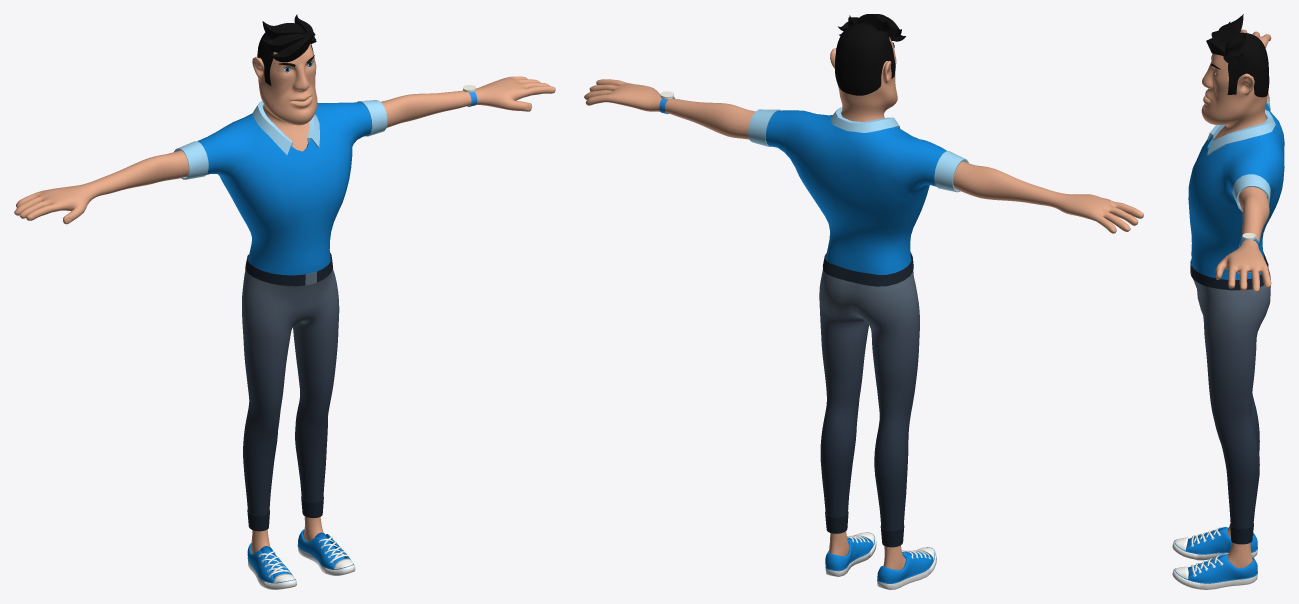
File: TERRYFBX.fbx
3 renders of one model, left to right at view 1: azimuth 30°, elevation 25°; view 2: azimuth 150°, elevation 25°; view 3: azimuth 270°, elevation 25°, orthographic. The views are drawn at different scales.
Visible parts, largest first — view 1: D_1, D_2, Body, Shoes, Hair; view 2: D_2, D_1, Body, Hair, Shoes; view 3: D_2, D_1, Body, Shoes, Hair.
Part boxes in pixels (x1,y1,x2,y2): D_1: (174,100,387,275); D_2: (242,252,339,531); Body: (14,43,555,553); Shoes: (247,529,355,589); Hair: (257,14,316,85); D_2: (819,252,919,547); D_1: (748,107,968,274); Body: (584,37,1143,570); Hair: (835,14,905,95); Shoes: (825,532,936,589); D_2: (1190,252,1270,544); D_1: (1188,97,1284,279); Body: (1201,29,1271,568); Shoes: (1172,527,1257,589); Hair: (1206,14,1269,97).
Bounding box in the file's own units: 797 × 785 × 147.
